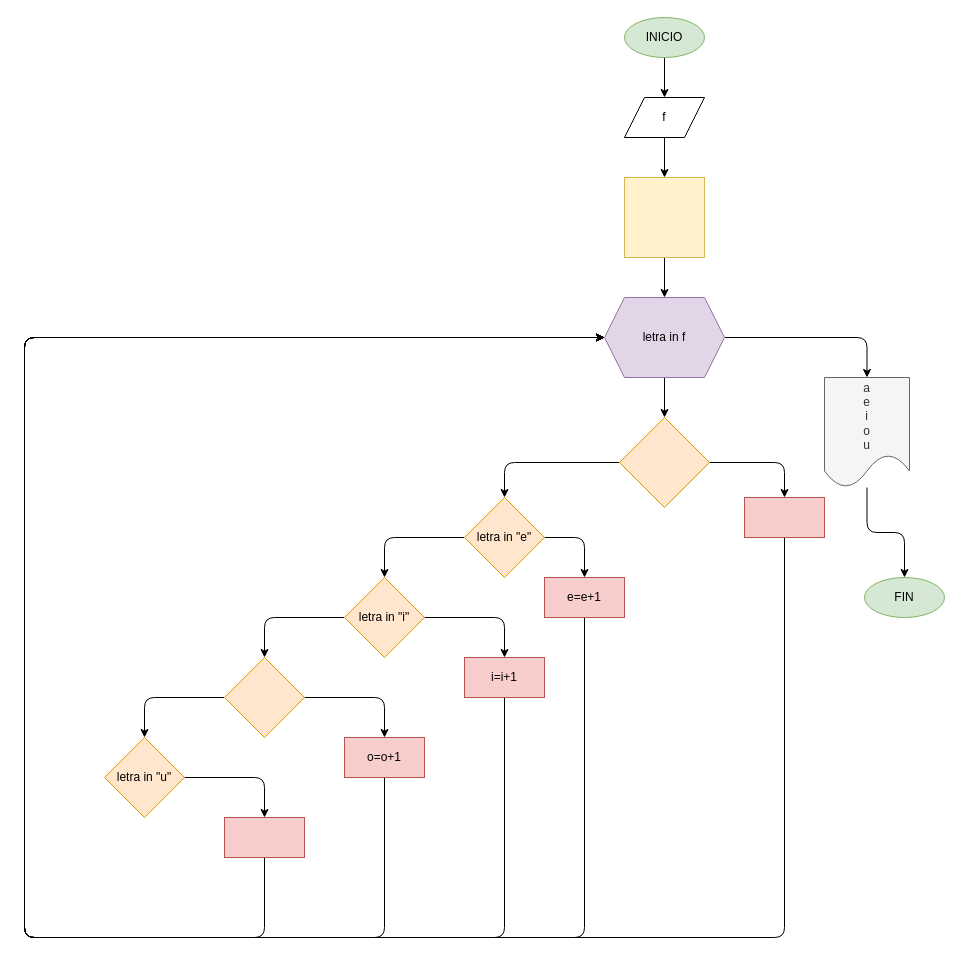
The diagram is 962 pixels wide and 963 high, and some of its shapes have lost their labels. Each missing label, with the box of its shape:
a=0 e=0 i=0 o=0 u=0: (624, 176, 704, 258)
a=a+1: (744, 496, 824, 538)
letra in "a": (618, 416, 710, 508)
letra in "o": (224, 656, 304, 738)
u=u+1: (224, 816, 304, 858)
